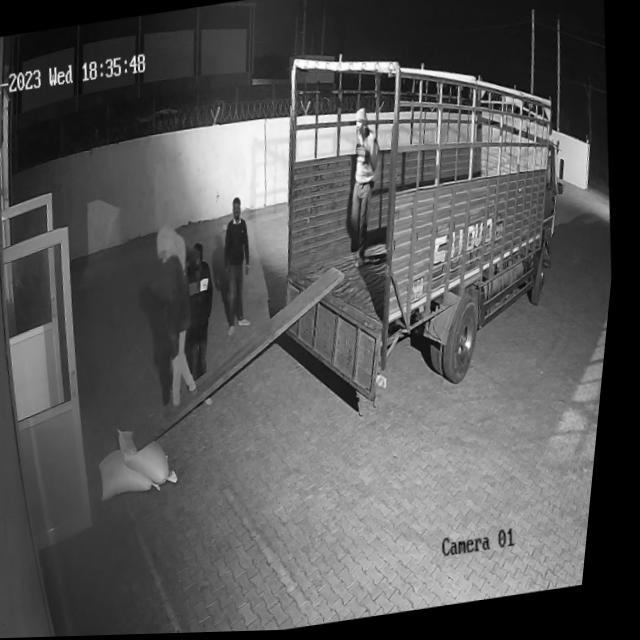sack: (120, 419, 191, 493), (103, 443, 174, 503)
